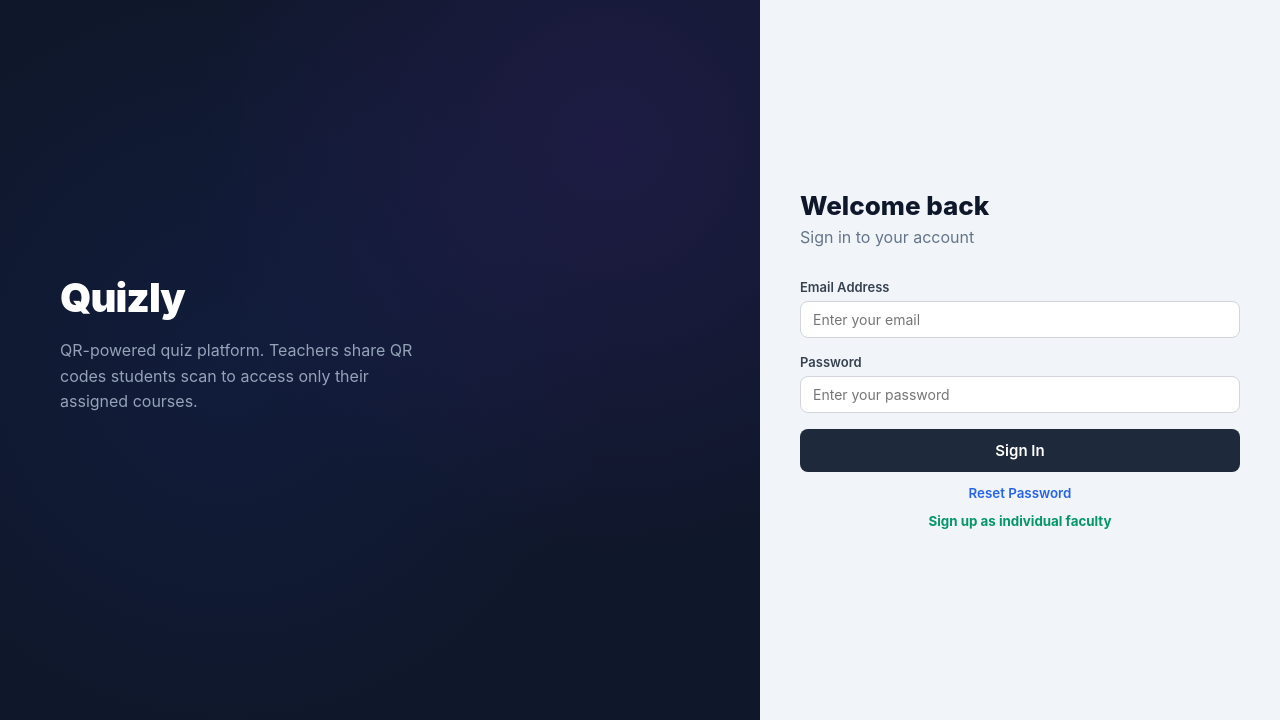
opens individual faculty subscription signup
Click the button "Sign up as individual faculty" at (1020, 521), box [800,512,1240,530]
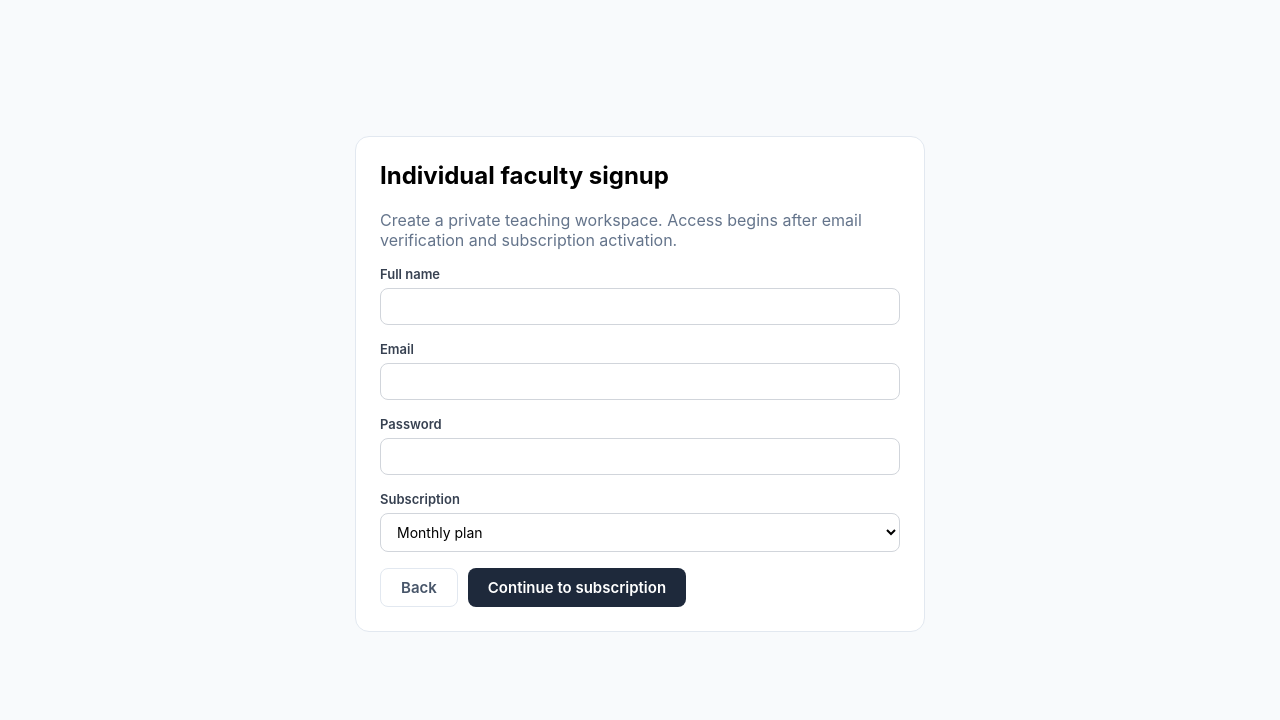
Check: the heading "Individual faculty signup" is shown, box [380,161,669,190]
Check: the dropdown labelled "Subscription" shows "Monthly plan", box [380,513,900,552]
